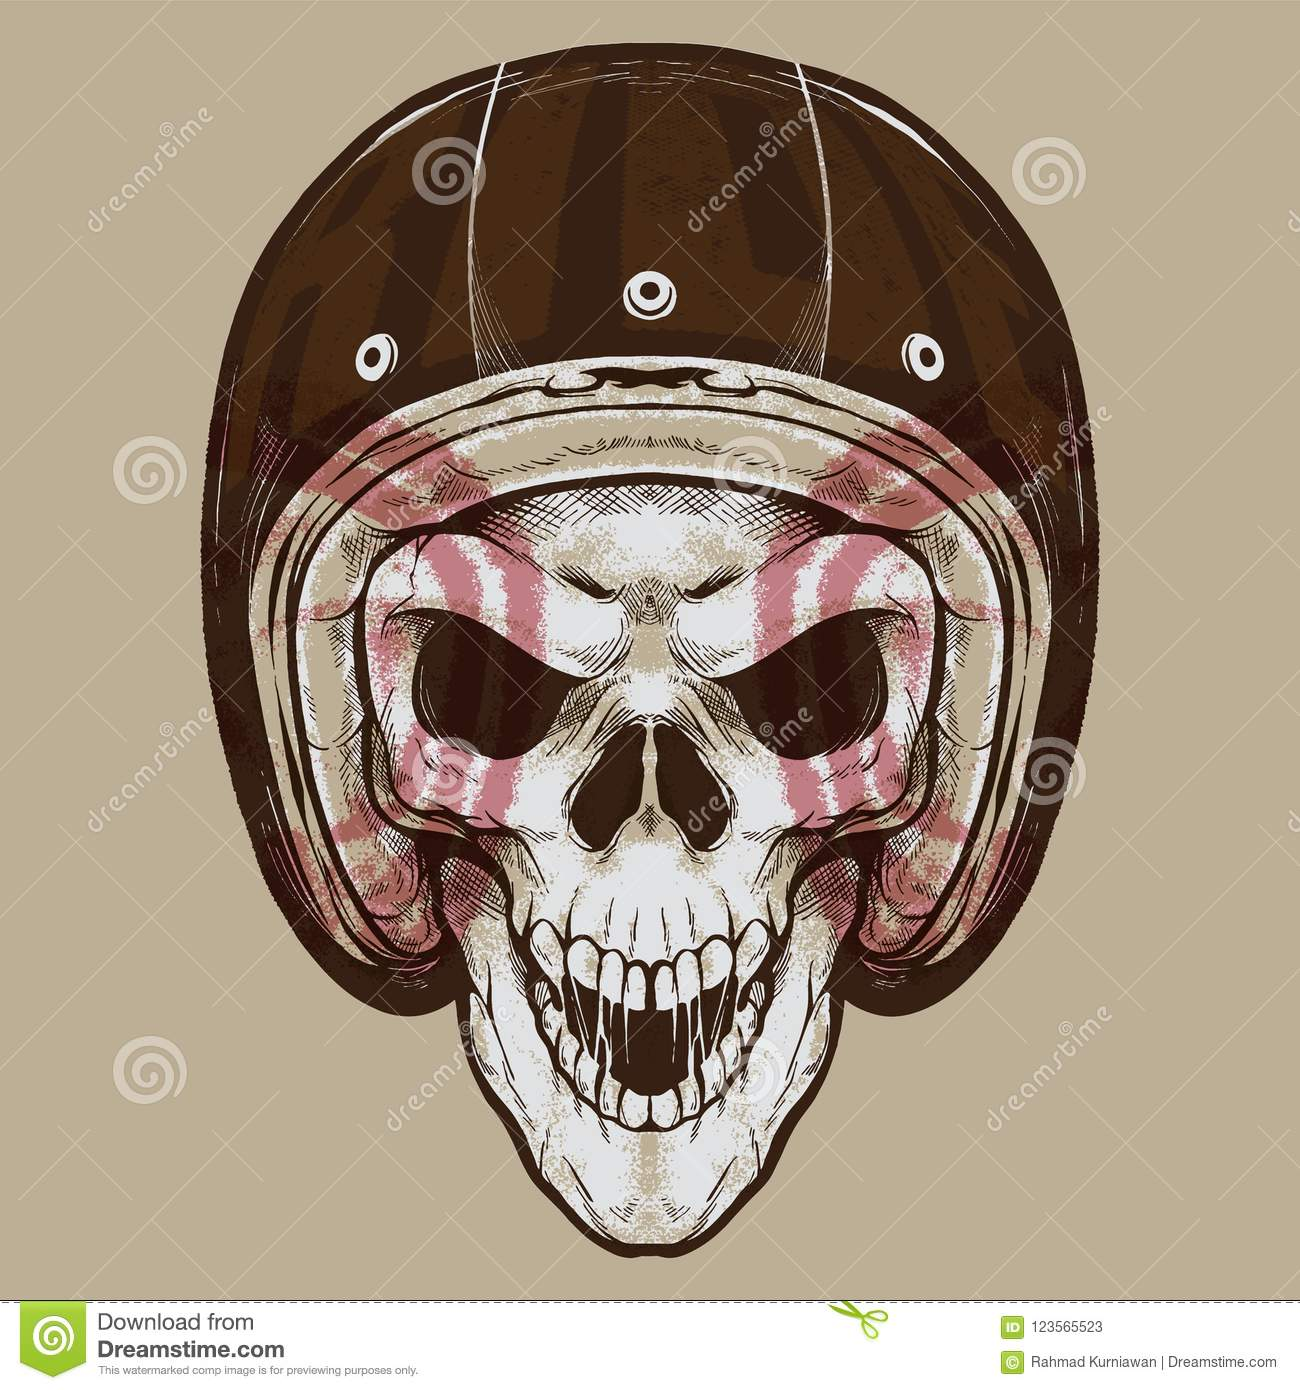with_helmet: (202, 48, 1107, 1009)
